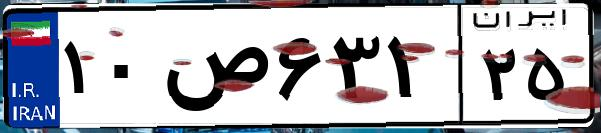0: (110, 28, 158, 98)
1: (385, 28, 445, 110), (57, 26, 110, 100)
2: (475, 38, 525, 113)
3: (330, 28, 385, 110)
5: (525, 38, 570, 115)
6: (270, 28, 330, 110)
ص: (158, 20, 270, 120)
